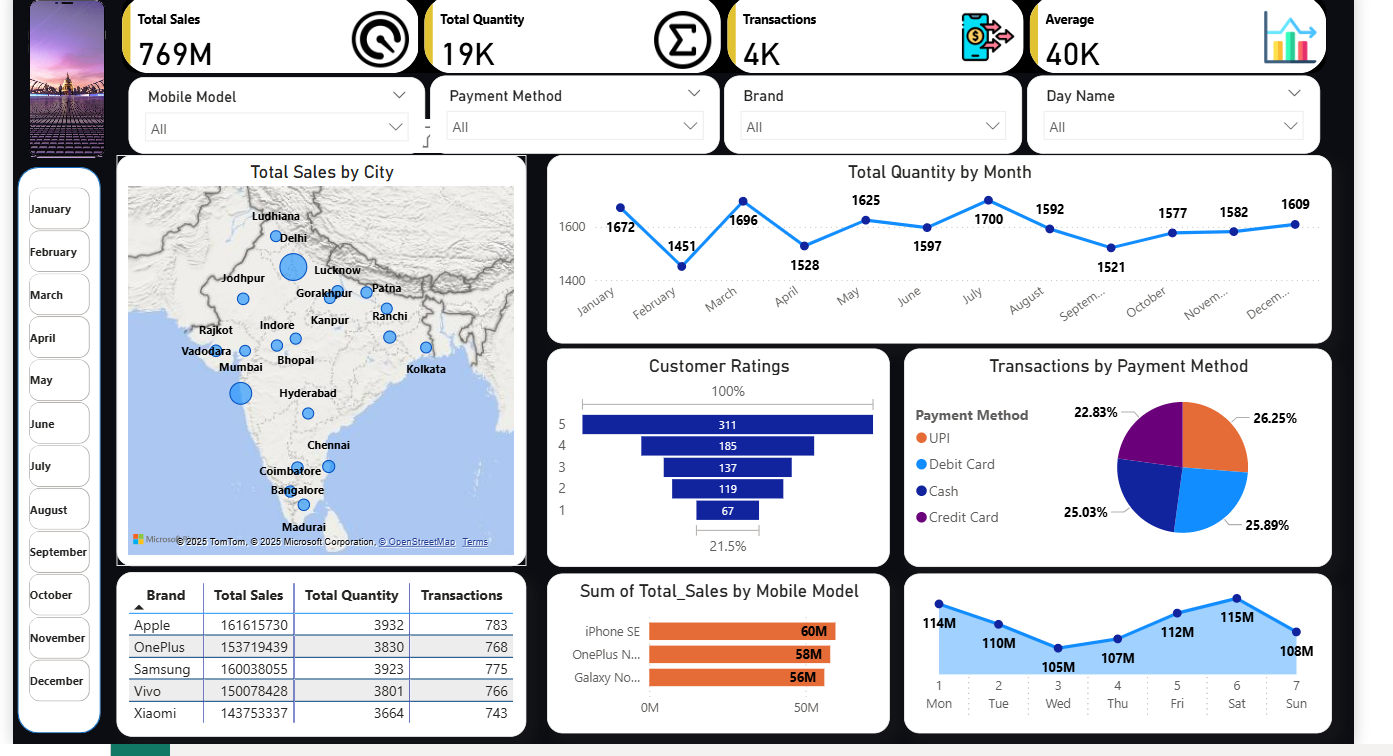

The page's visual inventory and layout, read from the dashboard file:
{"tool":"powerbi","page":{"name":"Page 1","canvas":[1280,720],"ordinal":0},"visuals":[{"type":"image","box":[0,0,98.6,168.6],"z":0},{"type":"shape","box":[4.8,168.6,79.5,540.8],"z":1000},{"type":"advancedSlicerVisual","fields":{"Values":["Sheet1.Date.Variation.Date Hierarchy.Month"]},"box":[9.5,182.9,68.4,507.4],"z":2000},{"type":"cardVisual","fields":{"Data":["Sum(Sales_Data.Total_Sales)","Sales_Data.Total Quantity","Sales_Data.Transactions","Sales_Data.Average"]},"box":[98.6,0,1161.1,84.3],"z":3000},{"type":"map","title":"Total Sales by City","fields":{"Category":["Sales_Data.City"],"Size":["Sum(Sales_Data.Total_Sales)"]},"box":[98.6,157.5,391.3,392.9],"z":4000},{"type":"lineChart","fields":{"Category":["Sales_Data.Date.Variation.Date Hierarchy.Month","Sales_Data.Date.Variation.Date Hierarchy.Day"],"Y":["Sales_Data.Total Quantity"]},"box":[510.6,157.5,749.2,179.7],"z":5000},{"type":"barChart","fields":{"Category":["Sales_Data.Mobile Model"],"Y":["Sum(Sales_Data.Total_Sales)"]},"box":[510.6,556.7,327.7,152.7],"z":6000},{"type":"pieChart","fields":{"Category":["Sales_Data.Payment Method"],"Y":["Sales_Data.Transactions"]},"box":[851,342,408.8,208.4],"z":7000},{"type":"funnel","title":"Customer Ratings","fields":{"Category":["Sales_Data.Customer Ratings"],"Y":["CountNonNull(Sales_Data.Customer Ratings)"]},"box":[510.6,342,327.7,208.4],"z":8000},{"type":"areaChart","fields":{"Y":["Sum(Sales_Data.Total_Sales)"],"Category":["Sales_Data.DayAbbrev","Sales_Data.Day_Name"]},"box":[851,556.7,408.8,152.7],"z":9000},{"type":"tableEx","fields":{"Values":["Sales_Data.Brand","Sales_Data.Total_Sales","Sales_Data.Total Quantity","Sales_Data.Transactions"]},"box":[98.6,555.1,391.3,157.5],"z":10000},{"type":"slicer","fields":{"Values":["Sales_Data.Mobile Model"]},"box":[109.8,82.7,283.1,73.2],"z":10001},{"type":"slicer","fields":{"Values":["Sales_Data.Payment Method"]},"box":[397.7,81.1,276.8,74.8],"z":10002},{"type":"slicer","fields":{"Values":["Sales_Data.Brand"]},"box":[679.2,81.1,284.7,74.8],"z":10003},{"type":"slicer","fields":{"Values":["Sales_Data.Day Name"]},"box":[968.7,81.1,279.9,74.8],"z":10004}]}

Visuals, with their boxes in screenshot pixels (x1, y1, x2, y2):
image: 4:0:109:159
shape: 9:159:94:738
advancedSlicerVisual - Sheet1.Date.Variation.Date Hierarchy.Month: 14:174:87:718
cardVisual - Sum(Sales_Data.Total_Sales) x Sales_Data.Total Quantity: 109:0:1353:69
"Total Sales by City" map: 109:147:529:568
lineChart - Sales_Data.Date.Variation.Date Hierarchy.Month x Sales_Data.Date.Variation.Date Hierarchy.Day: 551:147:1353:340
barChart - Sales_Data.Mobile Model x Sum(Sales_Data.Total_Sales): 551:575:902:738
pieChart - Sales_Data.Payment Method x Sales_Data.Transactions: 915:345:1353:568
"Customer Ratings" funnel: 551:345:902:568
areaChart - Sum(Sales_Data.Total_Sales) x Sales_Data.DayAbbrev: 915:575:1353:738
tableEx - Sales_Data.Brand x Sales_Data.Total_Sales: 109:573:529:742
slicer - Sales_Data.Mobile Model: 121:67:425:145
slicer - Sales_Data.Payment Method: 430:65:726:145
slicer - Sales_Data.Brand: 731:65:1036:145
slicer - Sales_Data.Day Name: 1042:65:1341:145
